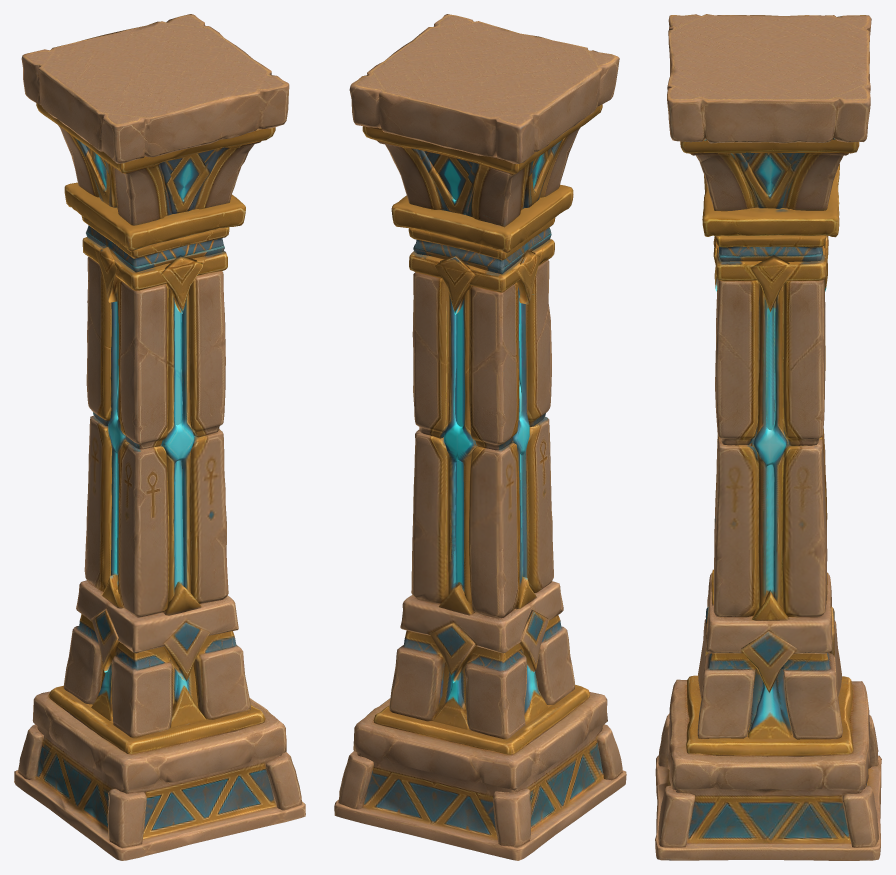
File: obelisk.fbx
The picture shows the model from 3 angles, left to right: view 1: azimuth 30°, elevation 25°; view 2: azimuth 150°, elevation 25°; view 3: azimuth 270°, elevation 25°; orthographic projection. The views are drawn at different scales.
Visible parts, largest first — view 1: Mesh_0; view 2: Mesh_0; view 3: Mesh_0.
Part boxes in pixels (x1,y1,x2,y2): Mesh_0: (14,14,305,860); Mesh_0: (334,14,626,860); Mesh_0: (655,14,881,860).
Bounding box in the file's own units: 27.33 × 100 × 27.29.
Materials: 1 (1 with a texture image).
